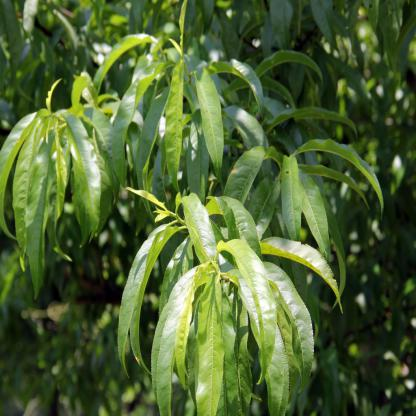peach leaf: (110, 222, 176, 383), (217, 240, 275, 381), (294, 137, 385, 217), (262, 260, 312, 398), (256, 235, 343, 312), (21, 129, 57, 305), (191, 271, 225, 415), (63, 111, 100, 237), (191, 69, 223, 181), (176, 193, 219, 265), (174, 274, 200, 393), (162, 56, 184, 194)
